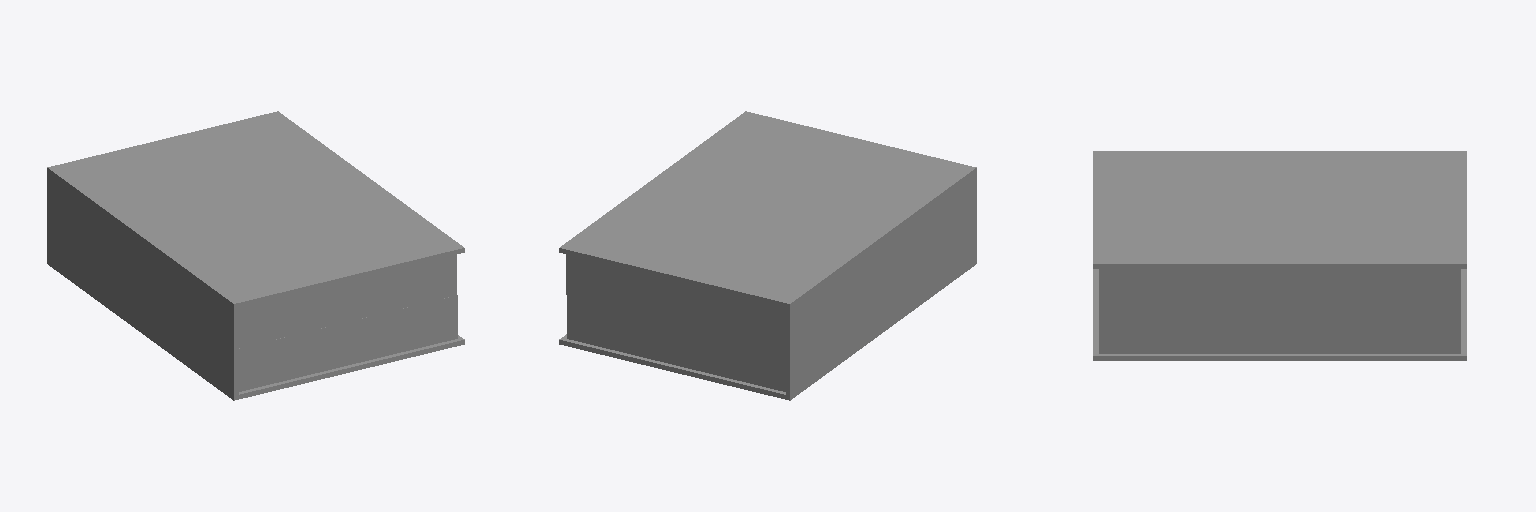
File: Guide.obj
The picture shows the model from 3 angles: view 1: azimuth 30°, elevation 25°; view 2: azimuth 150°, elevation 25°; view 3: azimuth 270°, elevation 25°; orthographic projection.
Parts seen in each view (by area): view 1: Top_RightSide_Cube.000, Bottom_RightSide_Cube.002; view 2: Top_RightSide_Cube.000, Bottom_RightSide_Cube.002; view 3: Top_RightSide_Cube.000, Bottom_RightSide_Cube.002.
Boxes of the visible parts, x1,y1,x2,y2 form: Top_RightSide_Cube.000: [47, 111, 464, 351]; Bottom_RightSide_Cube.002: [47, 216, 464, 400]; Top_RightSide_Cube.000: [559, 111, 976, 351]; Bottom_RightSide_Cube.002: [559, 216, 976, 400]; Top_RightSide_Cube.000: [1093, 151, 1466, 309]; Bottom_RightSide_Cube.002: [1093, 269, 1466, 360].
Bounding box in the file's own units: 0.5 × 0.2 × 0.7002.